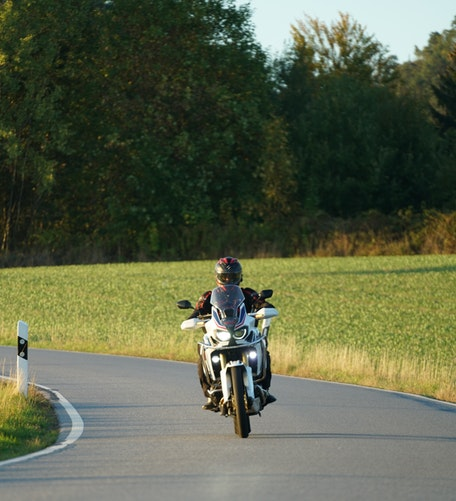helmet: (213, 255, 247, 291)
